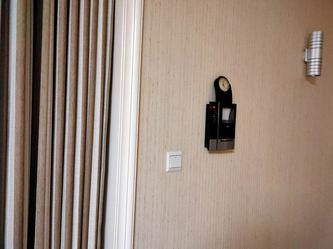switch: (168, 152, 184, 169)
